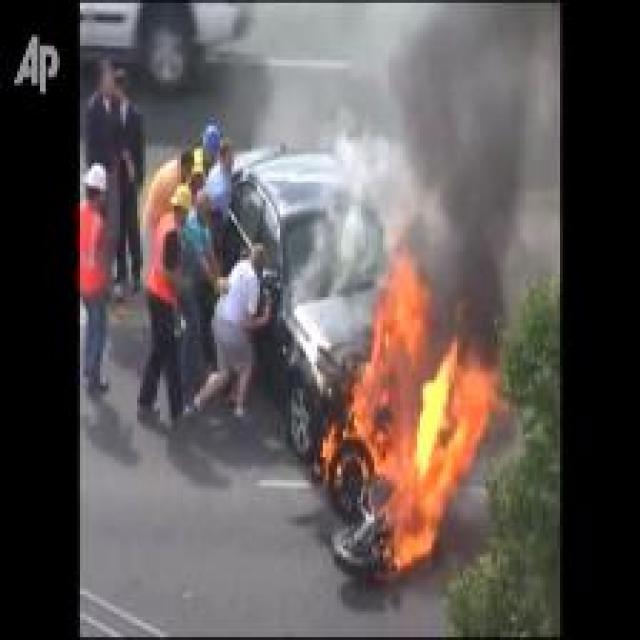Fire: (346, 257, 514, 574)
